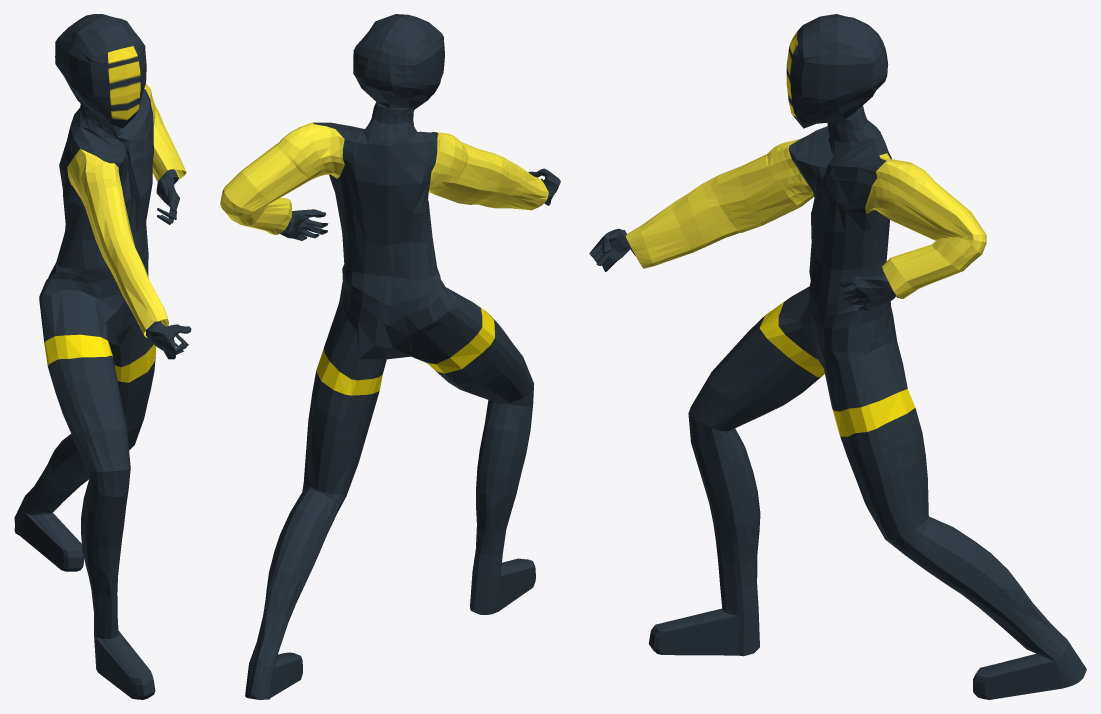
The model's file is Sentry_WB_000027.obj.
3 views of the same model, side by side, from view 1: azimuth 30°, elevation 25°; view 2: azimuth 150°, elevation 25°; view 3: azimuth 270°, elevation 25° (orthographic). The views are drawn at different scales.
Visible parts, largest first — view 1: Cube; view 2: Cube; view 3: Cube.
Boxes of the visible parts, box(x1,y1,x2,y2) form: Cube: box(14, 14, 191, 699); Cube: box(220, 14, 560, 699); Cube: box(589, 14, 1086, 699).
Bounding box in the file's own units: 1.18 × 3.62 × 2.48.
